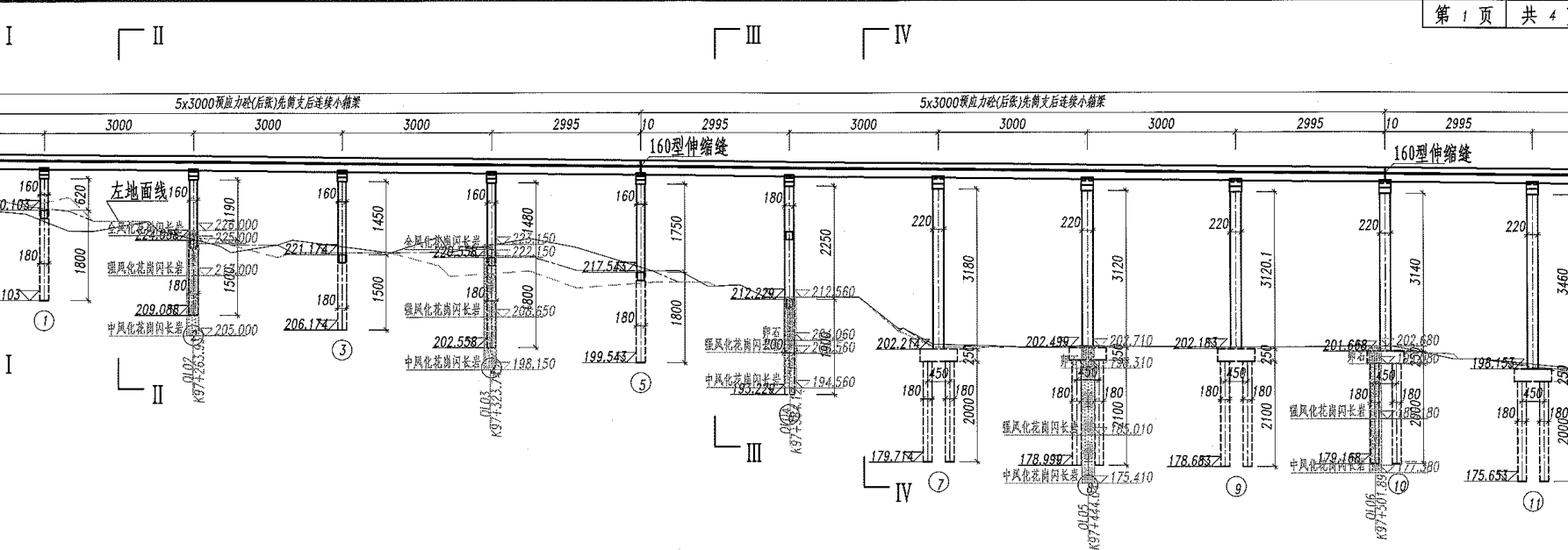A: (1, 77, 1568, 96)
B: (636, 90, 1402, 119), (3, 92, 647, 117)
C: (864, 172, 968, 498), (1160, 175, 1263, 504), (1012, 173, 1112, 502), (1313, 175, 1408, 498), (1467, 178, 1550, 515), (723, 168, 809, 432), (576, 168, 660, 398), (428, 167, 509, 382), (275, 166, 361, 366), (131, 165, 210, 348), (1, 162, 61, 337)
